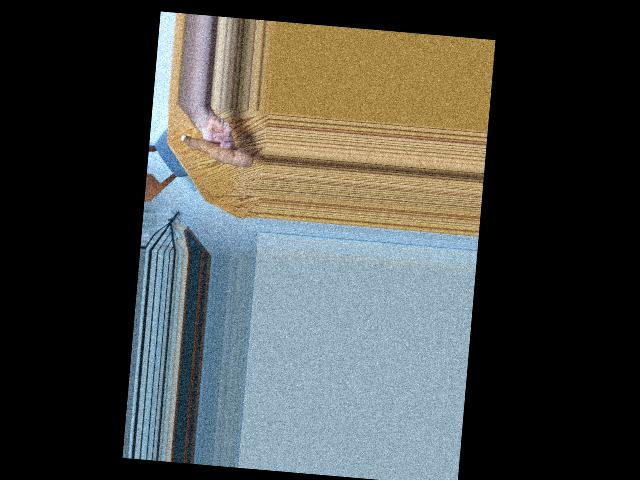sweet_potato: (179, 130, 253, 171)
